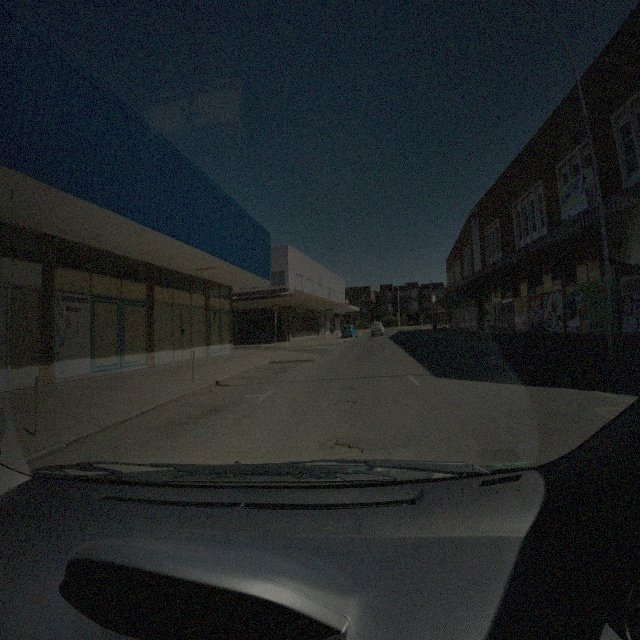pothole: (318, 434, 362, 457), (326, 397, 355, 413), (338, 383, 354, 391)
